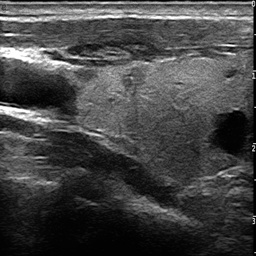mass: (121, 66, 145, 94)
